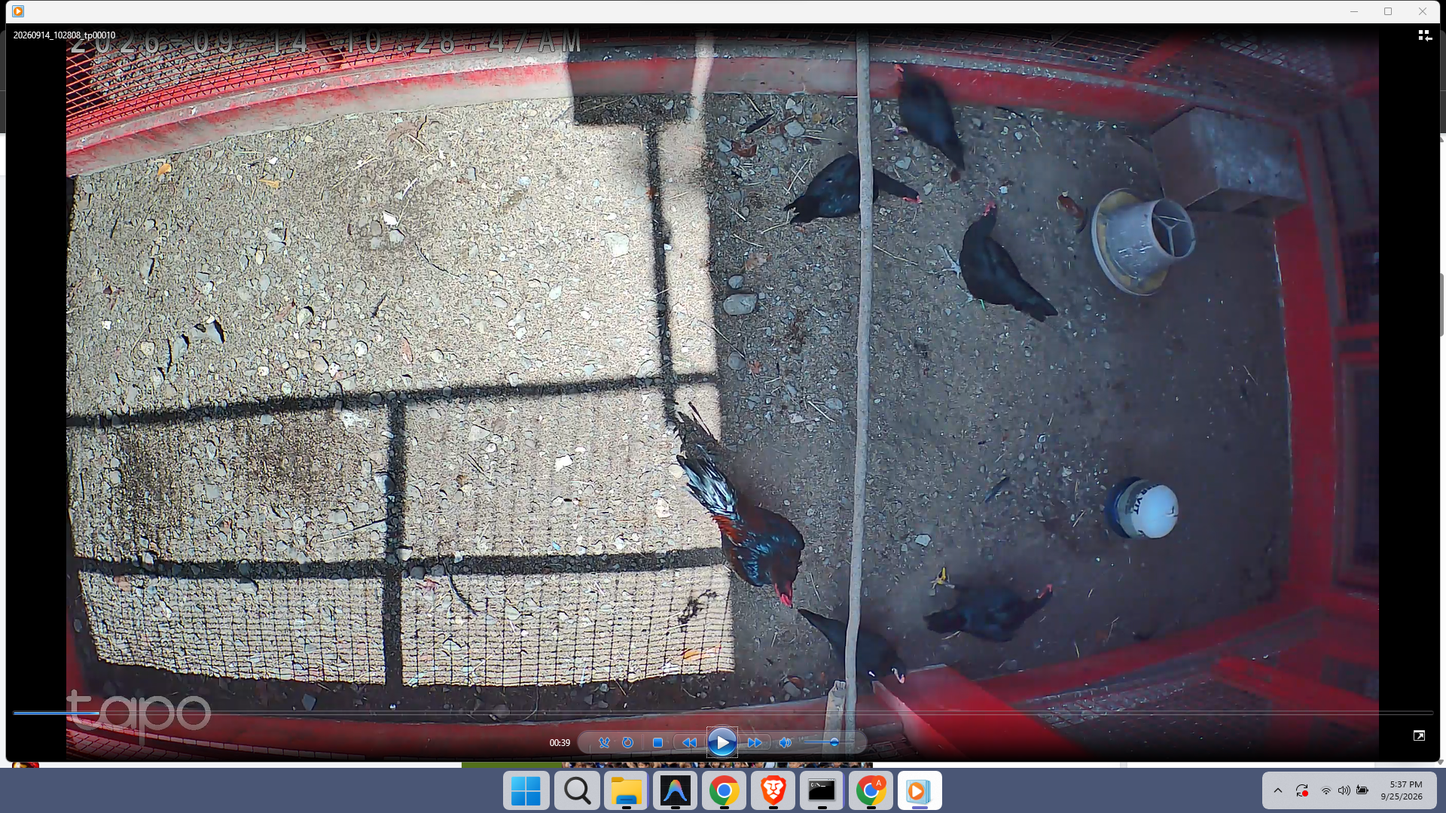Chicken: (942, 201, 1064, 326), (777, 154, 925, 227), (918, 569, 1056, 642), (797, 606, 916, 687), (883, 63, 970, 173)
Drinker: (1103, 475, 1177, 541)
Feeder: (1087, 185, 1200, 299)
Leg_Band_Green: (979, 298, 988, 312)
Leg_Band_Violet: (893, 124, 904, 135)
Leg_Band_Yellow: (936, 565, 948, 587)
Rooster: (678, 448, 830, 611)
